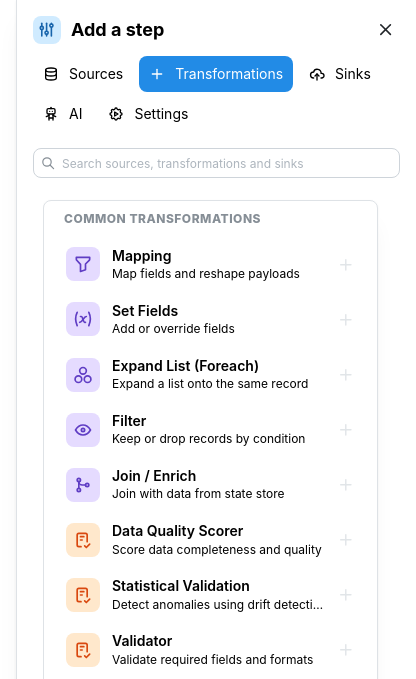
the palette Transformations tab › points a search for a source at the Sources tab instead of listing it
Type "postgres" into the field named "Search the node palette" at (216,163), box [33, 148, 400, 178]
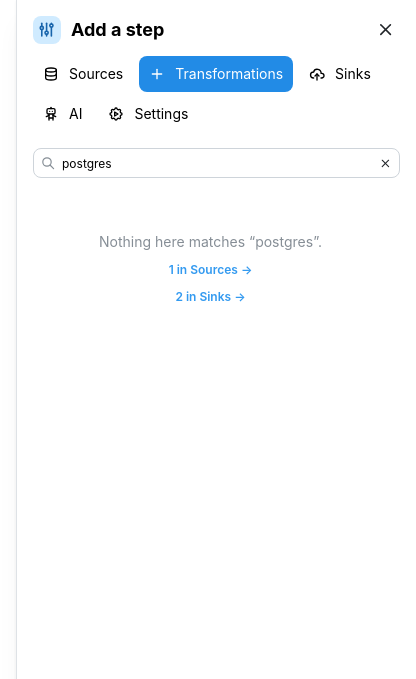
expect the text "Nothing here matches “postgres”." is shown: met, box [99, 232, 322, 252]
expect the text "1 in Sources →" is shown: met, box [169, 262, 252, 279]
